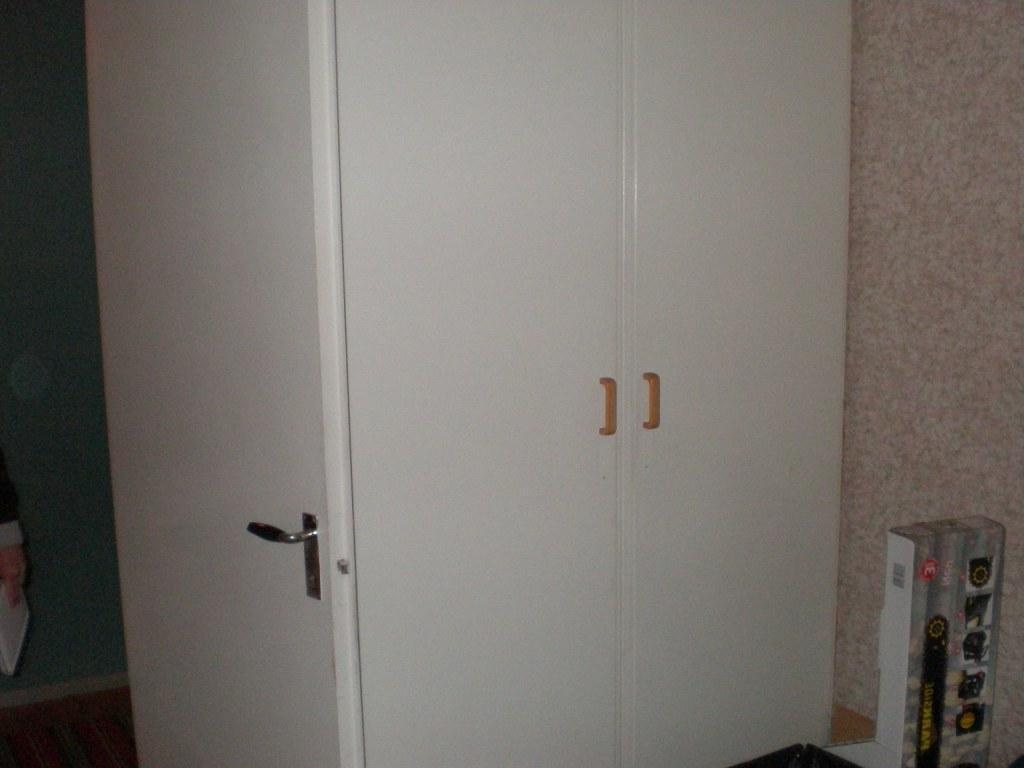door: (120, 19, 314, 768)
handle: (246, 509, 306, 562)
